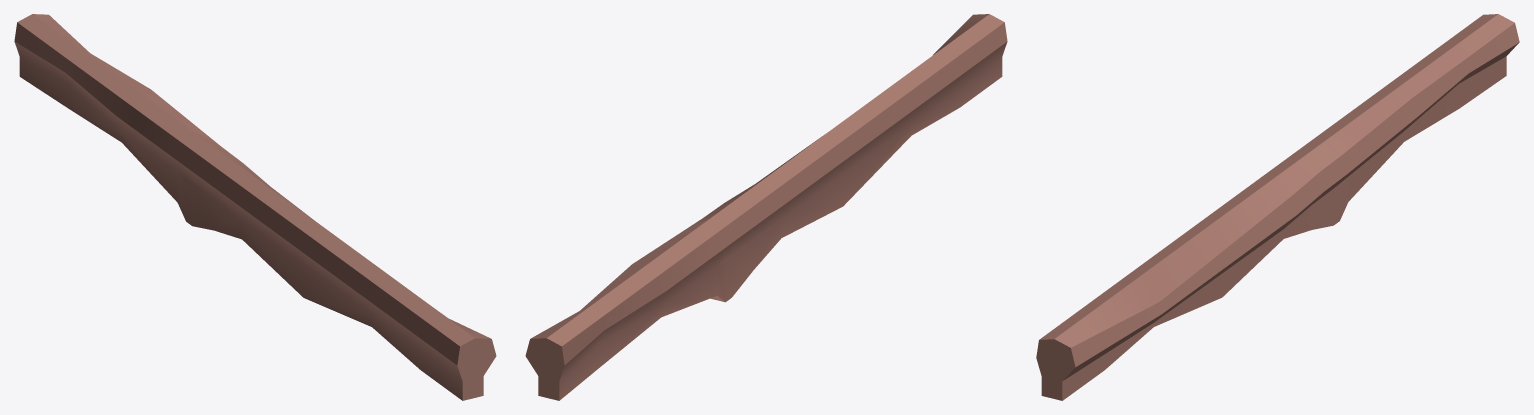
File: 07_wall_border_UV.fbx
3 views of the same model, side by side, from view 1: azimuth 30°, elevation 25°; view 2: azimuth 150°, elevation 25°; view 3: azimuth 330°, elevation 25° (orthographic).
Visible parts, largest first — view 1: _wall_border_BAKE; view 2: _wall_border_BAKE; view 3: _wall_border_BAKE.
Part boxes in pixels (x1=…): _wall_border_BAKE: x1=14, y1=14, x2=496, y2=400; _wall_border_BAKE: x1=525, y1=14, x2=1007, y2=400; _wall_border_BAKE: x1=1036, y1=14, x2=1519, y2=400.
Bounding box in the file's own units: 101 × 203 × 1972.
